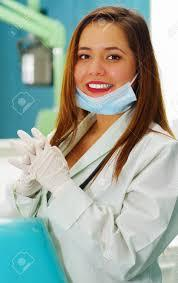Wore Mask Incorrectly: (59, 10, 154, 126)
